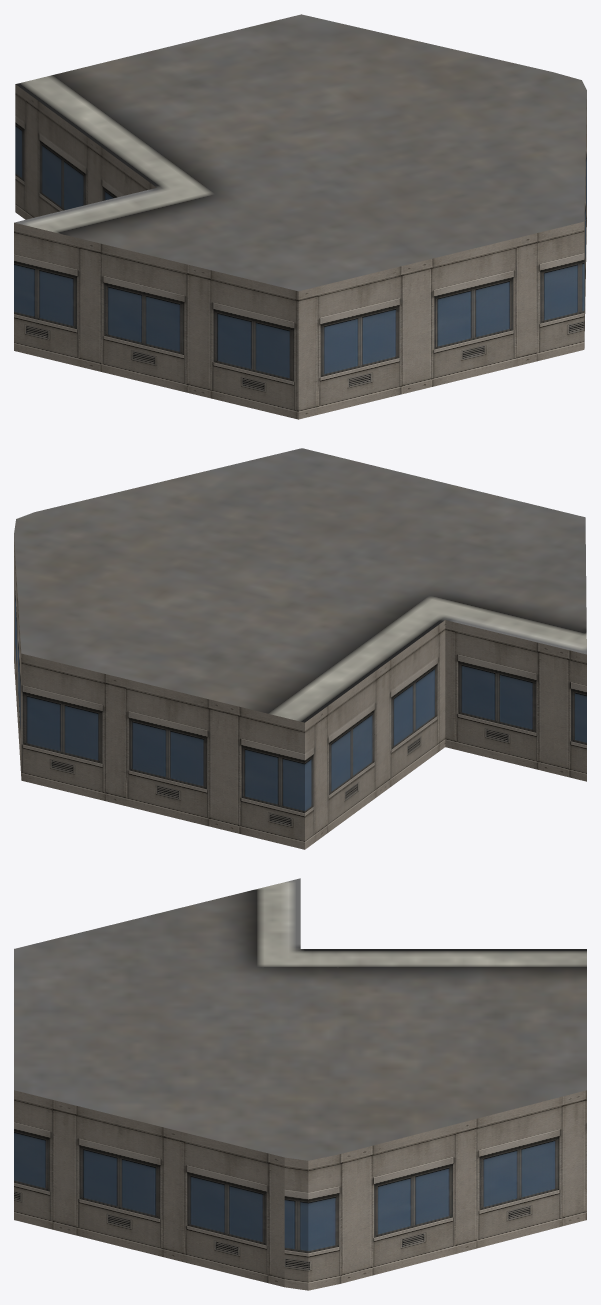
File: building_light_65.glb
The picture shows the model from 3 angles, top to bottom: view 1: azimuth 30°, elevation 25°; view 2: azimuth 150°, elevation 25°; view 3: azimuth 270°, elevation 25°; orthographic projection. The views are drawn at different scales.
Parts seen in each view (by area): view 1: buildings/saxarba/building_light/building_light_65; view 2: buildings/saxarba/building_light/building_light_65; view 3: buildings/saxarba/building_light/building_light_65.
Boxes of the visible parts, x1,y1,x2,y2 form: buildings/saxarba/building_light/building_light_65: (14, 14, 586, 419); buildings/saxarba/building_light/building_light_65: (14, 448, 586, 849); buildings/saxarba/building_light/building_light_65: (14, 878, 586, 1290).
Bounding box in the file's own units: 84 × 18 × 72.
